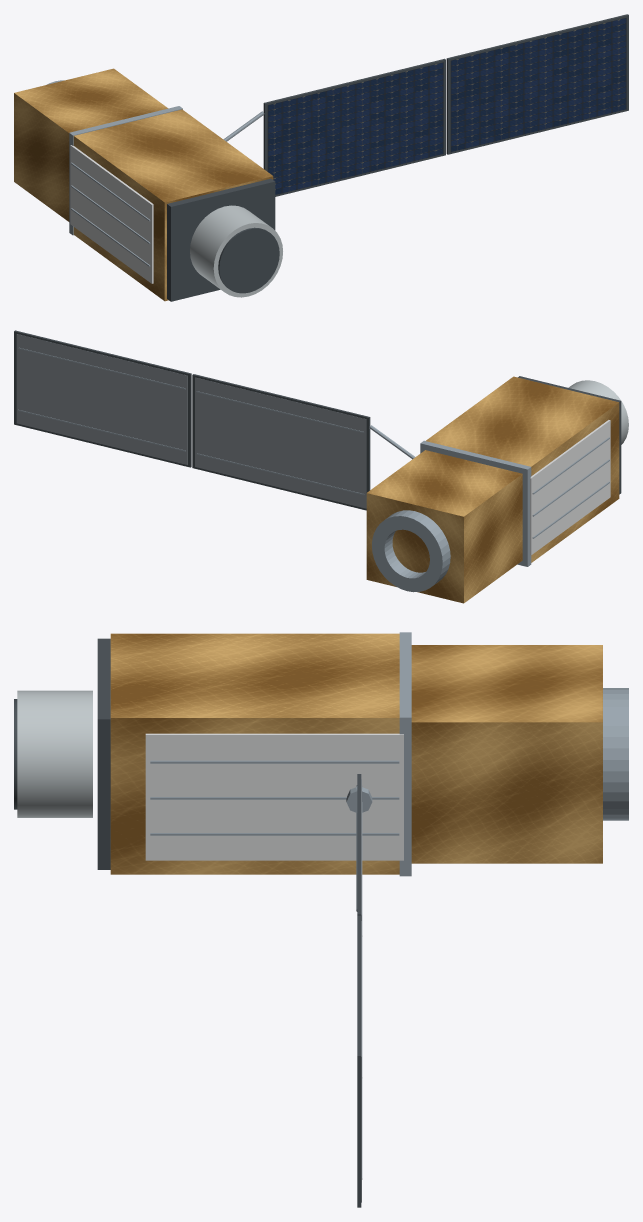
Rendered from geo-kompsat-2a.glb.
The picture shows the model from 3 angles, top to bottom: view 1: azimuth 30°, elevation 25°; view 2: azimuth 150°, elevation 25°; view 3: azimuth 270°, elevation 25°; orthographic projection. The views are drawn at different scales.
Visible parts, largest first — view 1: Solar cell panel (×2), Payload module, Service module, Radiator face, Earth-facing deck, Solar panel frame (×2), Optical instrument housing, Telescope aperture, Module interface; view 2: Rear array substrate (×2), Service module, Payload module, Radiator face, Launch adapter ring, Solar panel frame (×2), Module interface, Optical instrument housing, Earth-facing deck; view 3: Service module, Payload module, Radiator face, Optical instrument housing, Launch adapter ring, Earth-facing deck, Module interface, Solar panel frame, Radiator seam.
Part boxes in pixels (x1,y1,x2,y2): Solar cell panel (×2): (267, 18, 626, 194); Payload module: (73, 109, 273, 301); Service module: (14, 68, 168, 221); Radiator face: (70, 145, 153, 283); Earth-facing deck: (167, 178, 275, 301); Solar panel frame (×2): (263, 14, 628, 196); Optical instrument housing: (190, 205, 282, 297); Telescope aperture: (218, 227, 279, 293); Module interface: (69, 106, 182, 235); Rear array substrate (×2): (16, 334, 366, 508); Service module: (366, 450, 522, 603); Payload module: (426, 376, 619, 562); Radiator face: (530, 420, 610, 555); Launch adapter ring: (372, 510, 450, 592); Solar panel frame (×2): (14, 330, 370, 510); Module interface: (420, 440, 531, 566); Optical instrument housing: (568, 380, 628, 444); Earth-facing deck: (518, 376, 621, 494); Service module: (411, 645, 602, 863); Payload module: (110, 633, 399, 874); Radiator face: (145, 733, 403, 860); Optical instrument housing: (17, 690, 92, 817); Launch adapter ring: (603, 688, 628, 820); Earth-facing deck: (97, 638, 110, 869); Module interface: (399, 632, 411, 876); Solar panel frame: (357, 915, 361, 1207); Radiator seam: (150, 760, 399, 763).
Bounding box in the file's own units: 10.04 × 1.76 × 6.18.
Materials: 7 (2 with a texture image).
